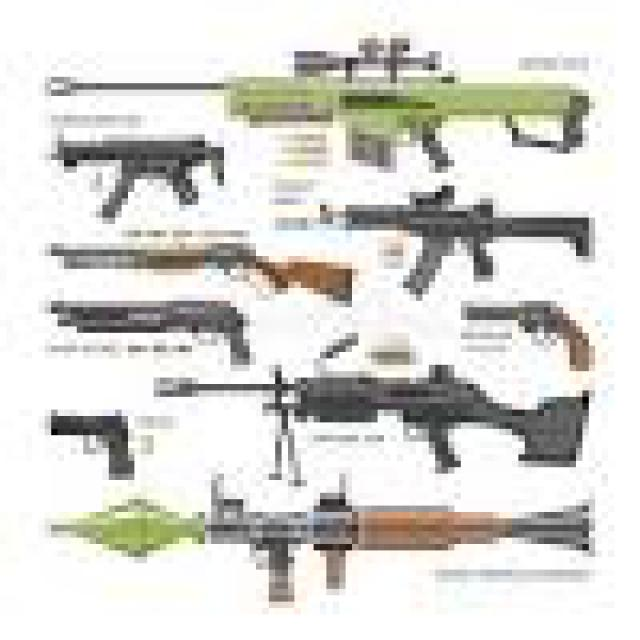handgun: (416, 286, 612, 382), (26, 384, 156, 484)
long weapon: (30, 28, 599, 168), (148, 356, 596, 476), (293, 186, 620, 292), (14, 222, 358, 318), (40, 118, 241, 222), (32, 299, 263, 369)
